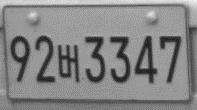2: (34, 34, 56, 83)
3: (108, 35, 131, 83), (83, 35, 105, 82)
4: (132, 34, 158, 84)
7: (158, 34, 182, 83)
9: (9, 35, 30, 82)
버: (57, 43, 79, 82)
